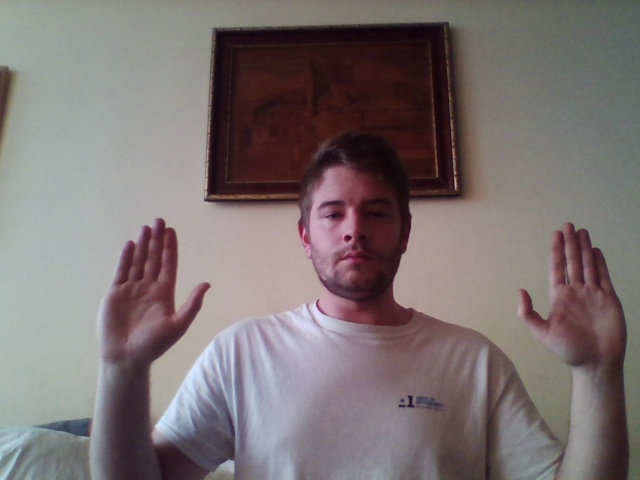prekrasno: (95, 220, 630, 371)
